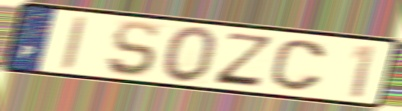1: (350, 44, 379, 100)
C: (267, 37, 329, 93)
I: (59, 14, 90, 72)
O: (160, 24, 220, 85)
S: (104, 19, 161, 79)
Z: (212, 30, 276, 89)
